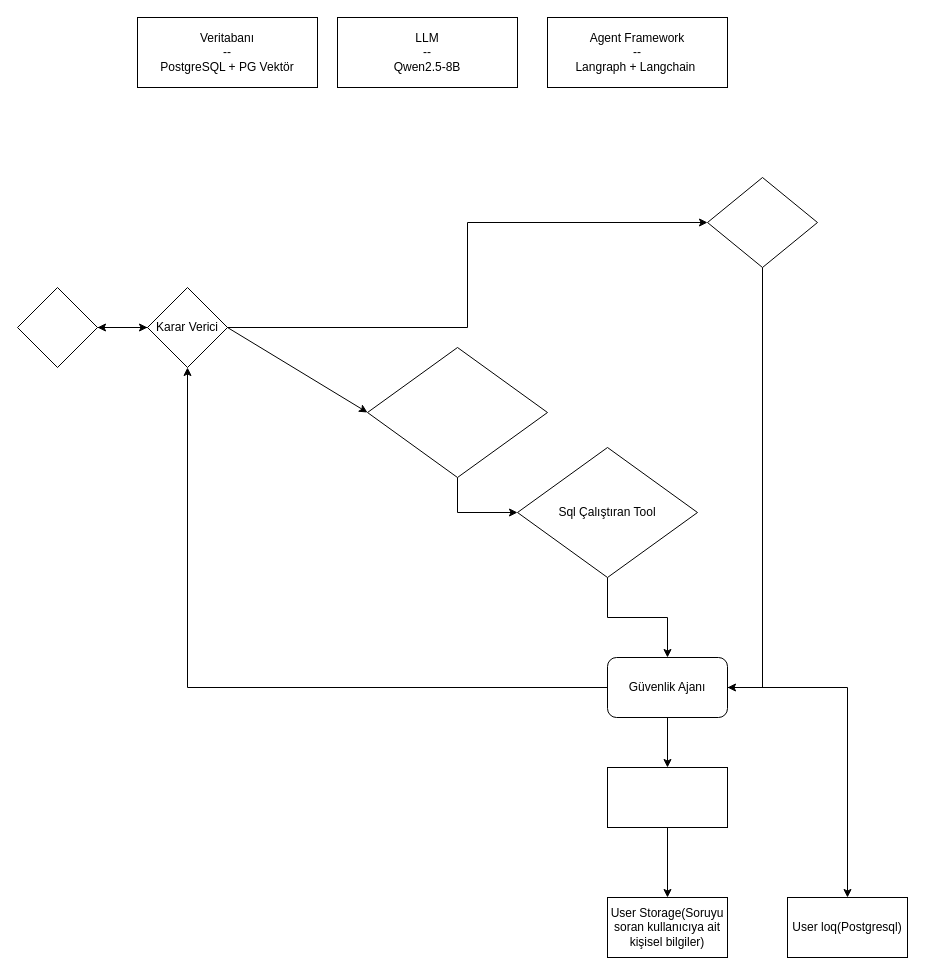
Image size: 925x975. Some labels were removed from this diagram. Here are the shapes that lost their labels. From the top down, the centre of each, then its label:
At [762,222]: "Mantık Ajanı".
At [57,327]: "Kullanıcı".
At [457,412]: "Veritabanı Ajanı (Sorguya ait SQL hazırlayan ajan)".
At [667,797]: "Kullanıcı Bilgi Tespit Ajanı".
